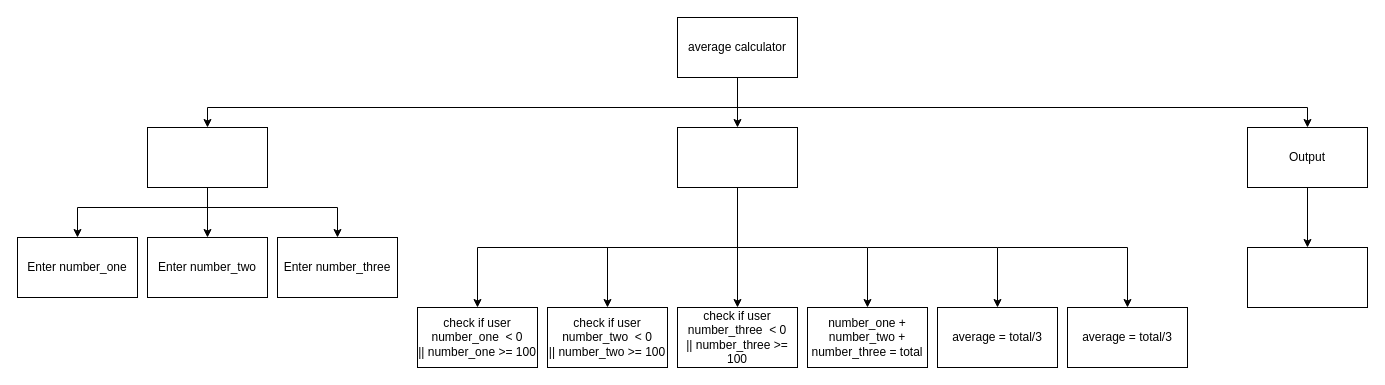
This 1385x385 diagram has some shape labels left out. The centre of each missing label's shape, as x and y in pixels:
"Input" belongs at point (207, 157).
"Process" belongs at point (737, 157).
"the calculated average" belongs at point (1307, 277).
